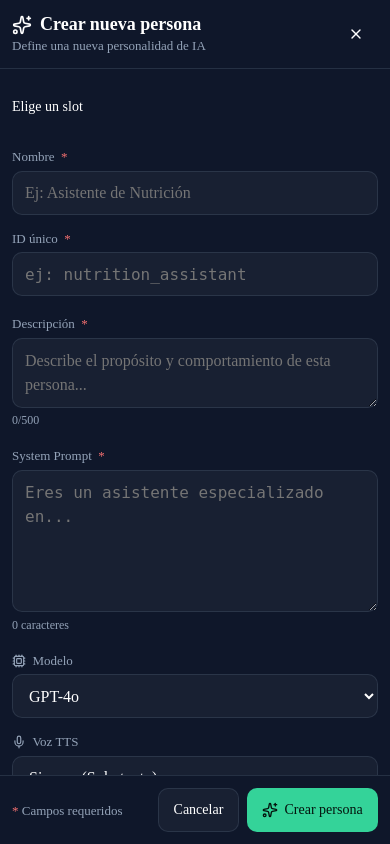
PersonaCreateModal › renders the consumer options, grouped, plus an extra-fields slot that can block submit
The width and height of the screenshot is (390, 844).
Expected: the text "Elige un slot" is shown, [12,99,83,114]
Type "Asistente Nutrición" into the field labelled "Nombre *" at (195, 193), box [12,171,378,215]
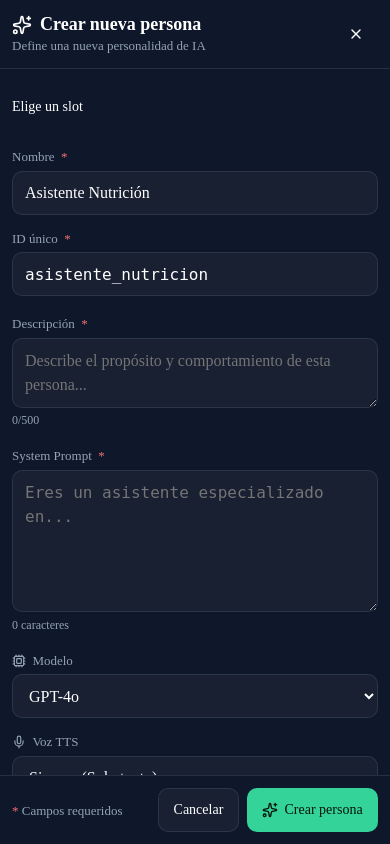
Type "Orienta sobre alimentación." into the text box labelled "Descripción *" at (195, 373), box [12,338,378,408]
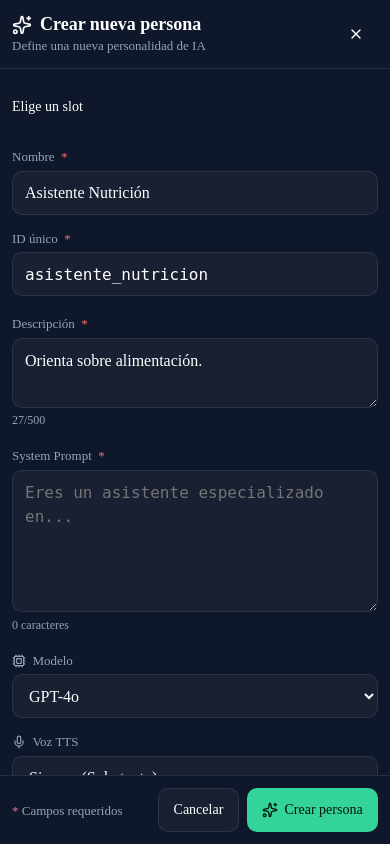
Type "Eres un asistente especializado en nutrición." into the text box labelled "System Prompt *" at (195, 541), box [12,470,378,612]
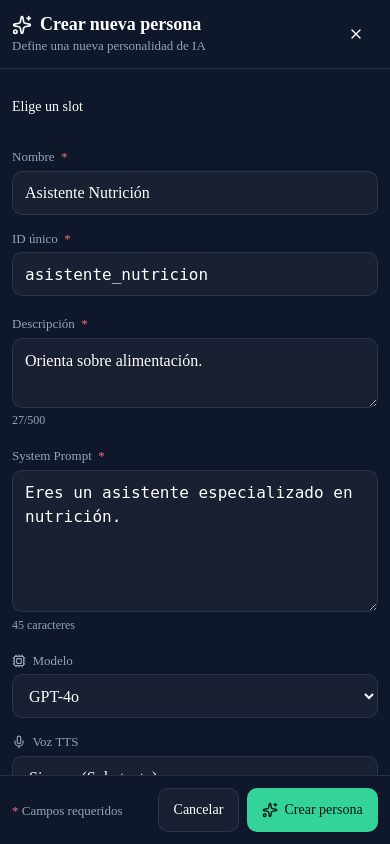
Click the button "Crear persona" at (312, 810), box [247,788,378,832]
(page scrolled)
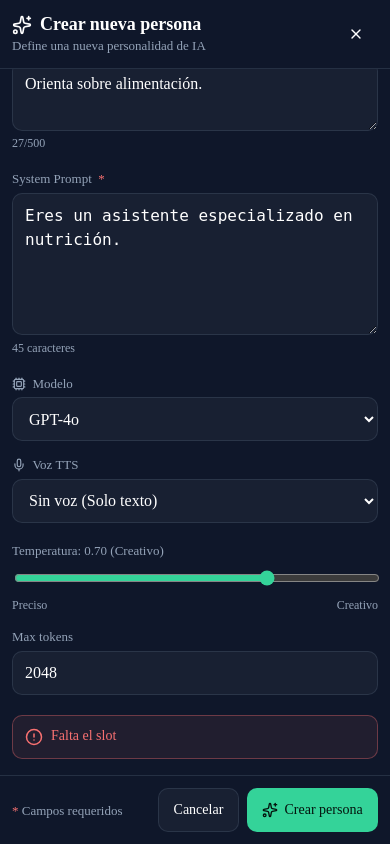
Now the text "Falta el slot" is shown, box [51,728,116,742]
